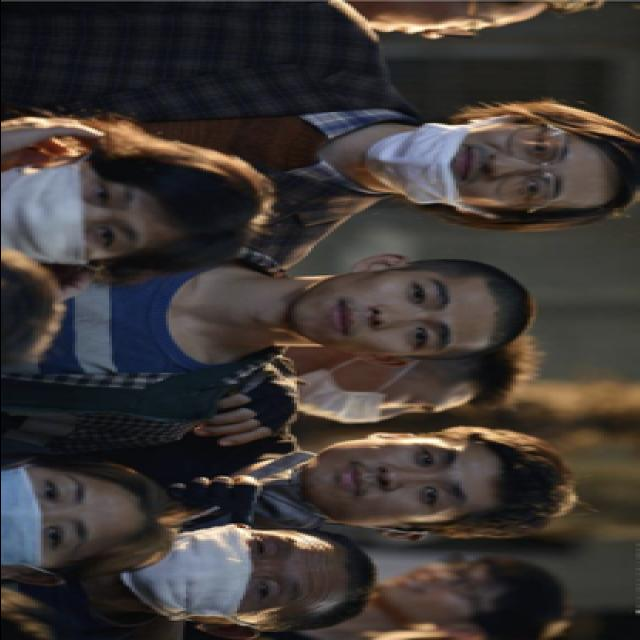mask_weared_incorrect: (364, 121, 574, 212)
with_mask: (128, 524, 310, 620), (6, 157, 148, 267), (5, 464, 106, 568), (298, 356, 444, 426)
without_mask: (296, 436, 470, 526), (287, 270, 461, 356), (381, 560, 492, 621), (367, 0, 509, 40)
